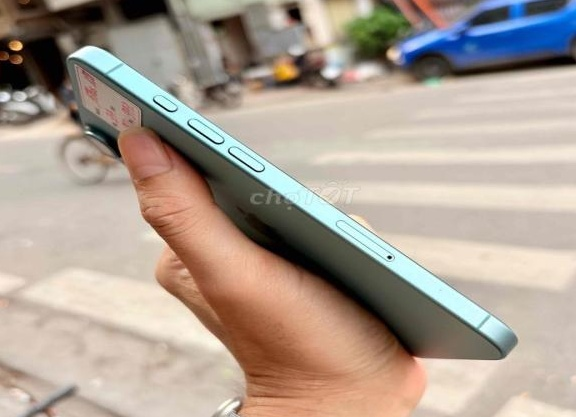scratch: (435, 271, 460, 313)
